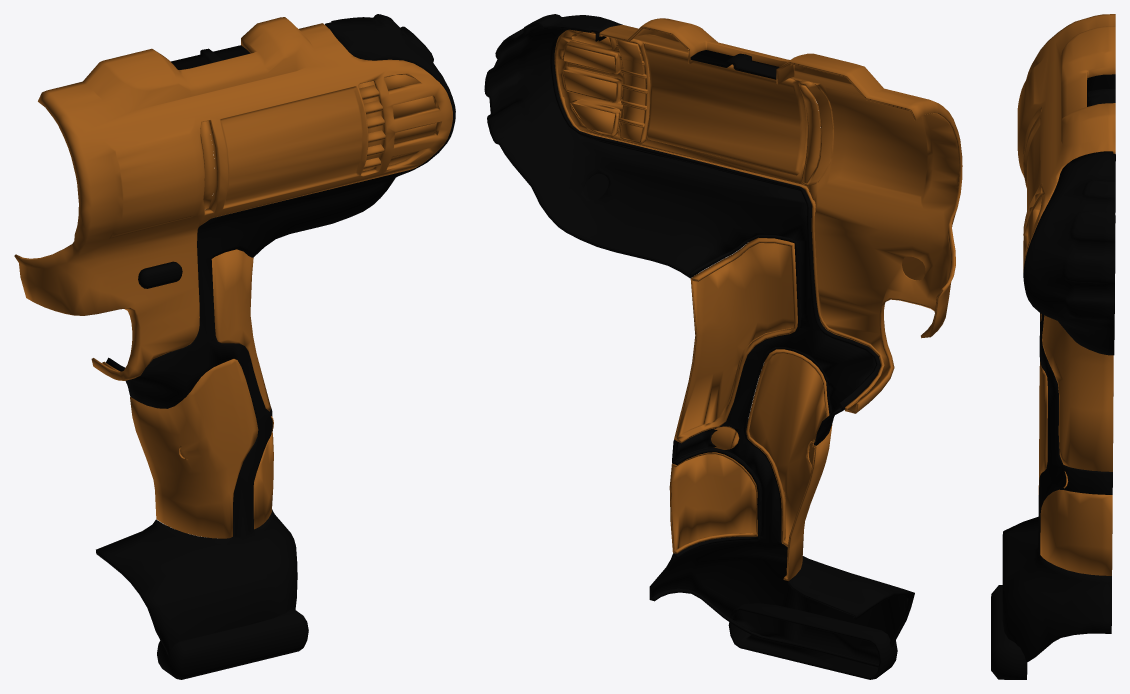
Rendered from Rear Body (Optimized).fbx.
The picture shows the model from 3 angles, left to right: view 1: azimuth 30°, elevation 25°; view 2: azimuth 150°, elevation 25°; view 3: azimuth 270°, elevation 25°; orthographic projection. The views are drawn at different scales.
Visible parts, largest first — view 1: Body 2; view 2: Body 2; view 3: Body 2.
Part boxes in pixels (<box>): Body 2: <box>14,14,455,679</box>; Body 2: <box>484,14,962,679</box>; Body 2: <box>991,14,1115,679</box>.
Size of the model in its own units: 10.85 by 14.6 by 2.83.
